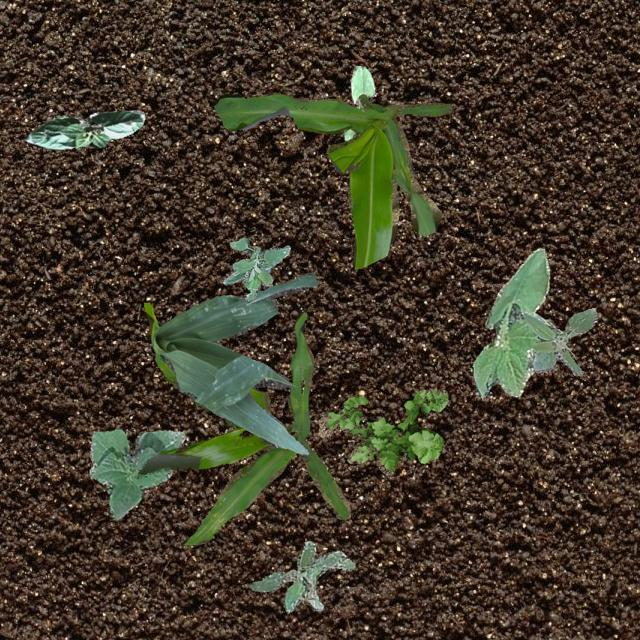crop: (138, 302, 350, 544), (213, 92, 452, 268), (152, 274, 316, 456), (472, 246, 554, 396), (89, 428, 184, 518), (23, 110, 144, 148), (344, 64, 374, 140)
weed: (318, 388, 447, 474), (248, 540, 354, 612), (520, 308, 596, 374), (222, 236, 290, 302)
